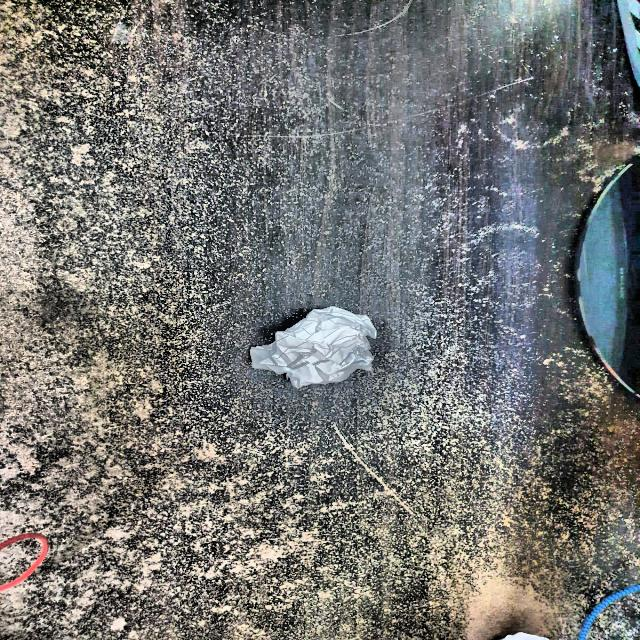Paper: (253, 304, 388, 390)
